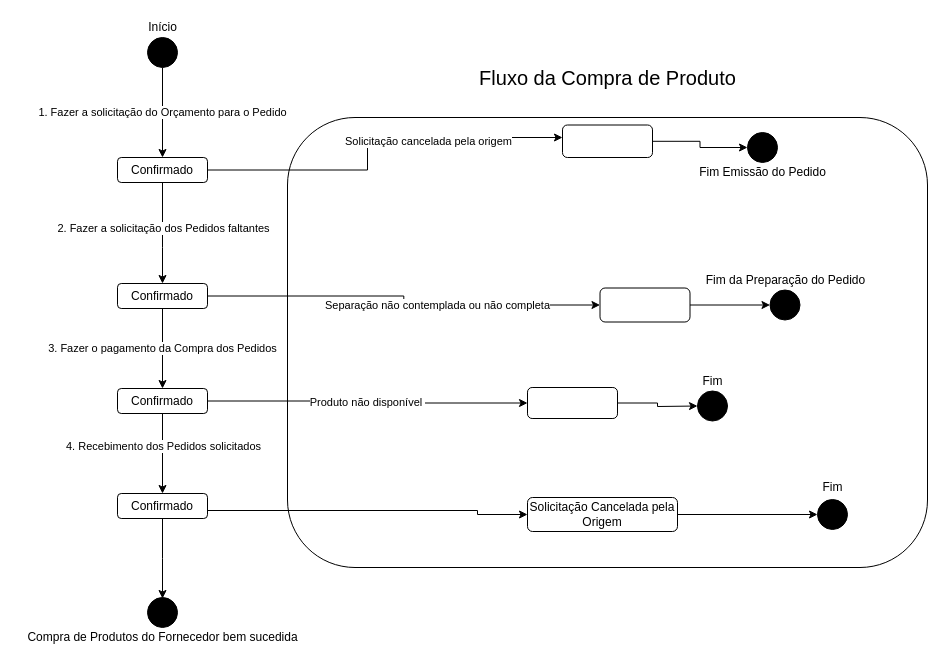
Some shapes in this 945 by 664 pixel diagram are drawn without their labels. The centre of each missing label's shape, as x and y in pixels:
Não disponível no Estoque: the point at 572,402
Separação cancelada: the point at 644,304
Solicitação Cancelada: the point at 607,141
